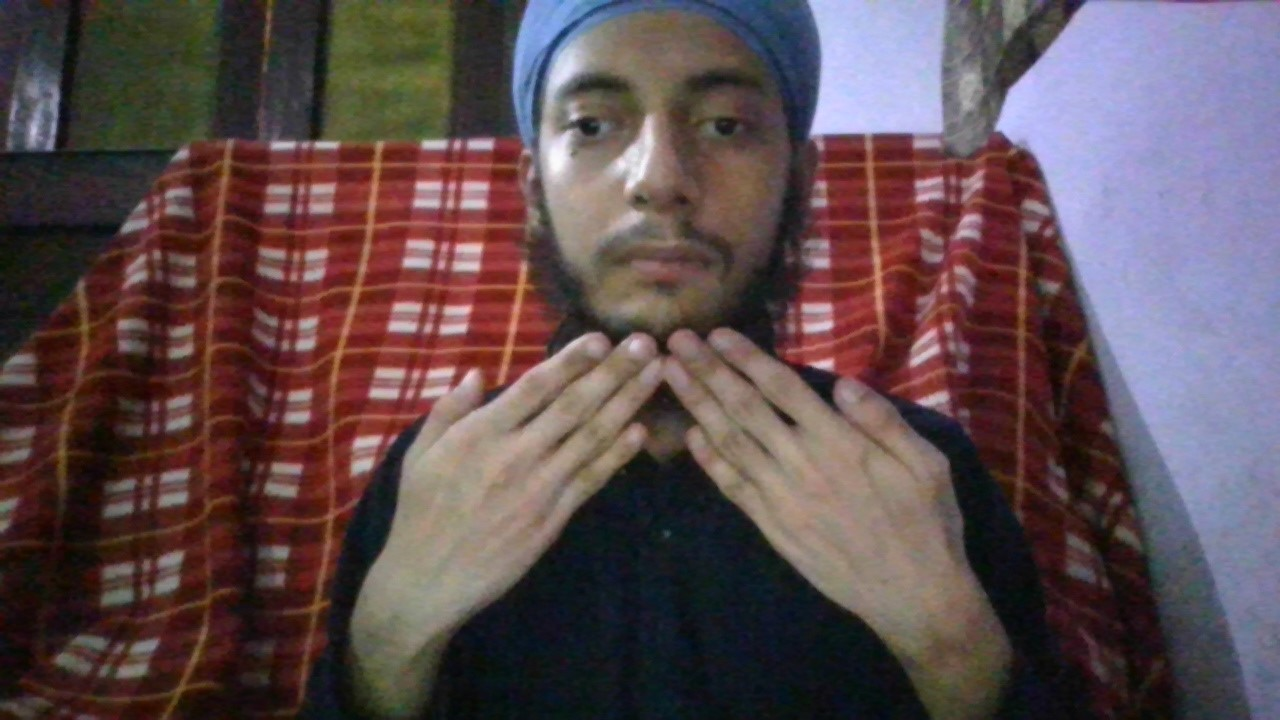Thank You: (406, 328, 961, 558)
